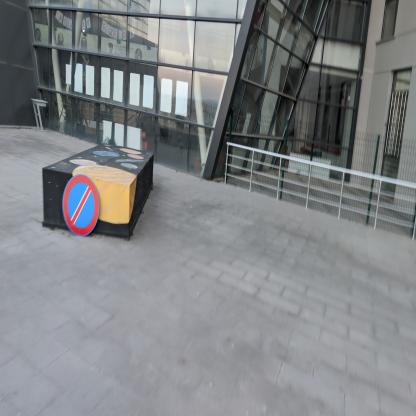No Waiting: (65, 176, 101, 238)
